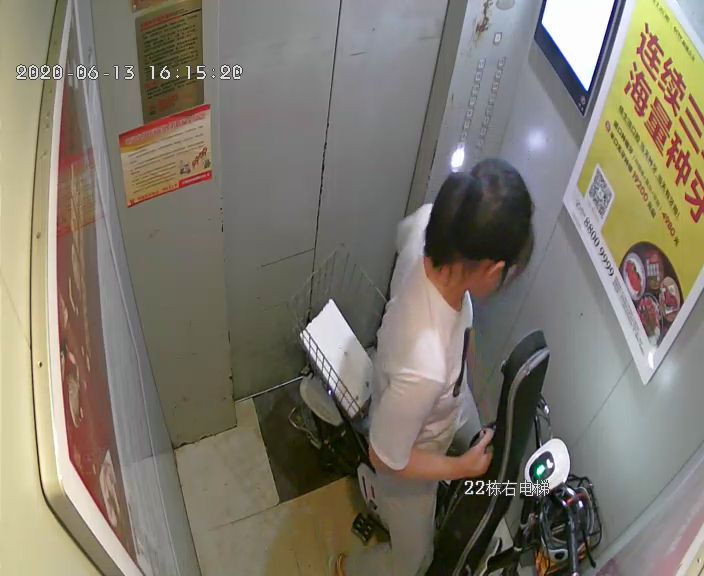Electric-bicycle: (293, 248, 602, 575)
